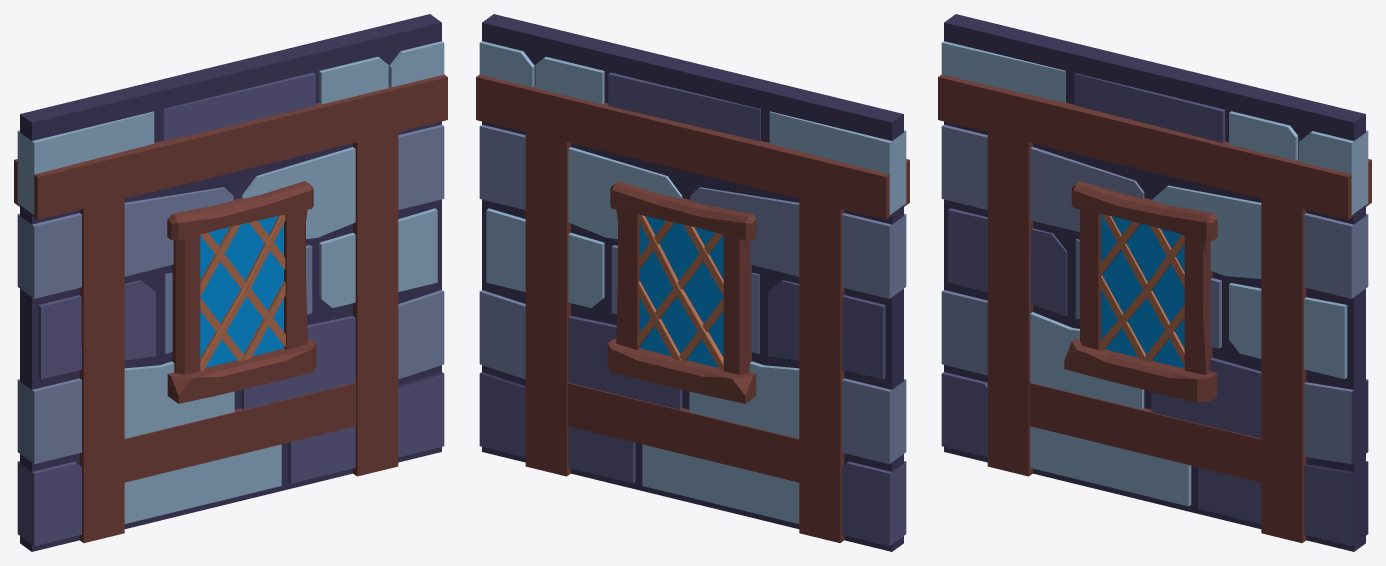
Rendered from Modular Wall 10 MK2 W1.fbx.
The picture shows the model from 3 angles, left to right: view 1: azimuth 30°, elevation 25°; view 2: azimuth 150°, elevation 25°; view 3: azimuth 330°, elevation 25°; orthographic projection.
Parts seen in each view (by area): view 1: Modular Wall 10 MK2 W1; view 2: Modular Wall 10 MK2 W1; view 3: Modular Wall 10 MK2 W1.
Boxes of the visible parts, x1,y1,x2,y2 form: Modular Wall 10 MK2 W1: (14,14,447,551); Modular Wall 10 MK2 W1: (476,14,909,551); Modular Wall 10 MK2 W1: (938,14,1371,551).
Bounding box in the file's own units: 400 × 400 × 66.15.
